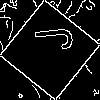J: (25, 25, 74, 54)
